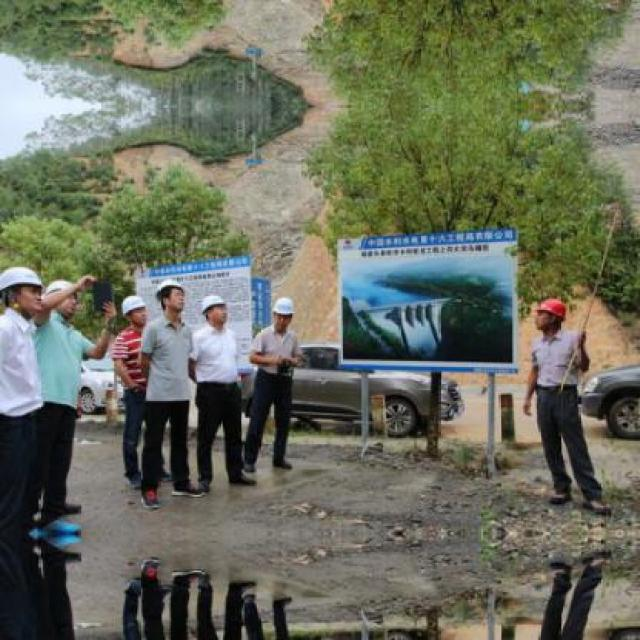helmet: (1, 261, 42, 314), (44, 275, 79, 319), (118, 290, 153, 330), (536, 296, 570, 336), (154, 276, 188, 316), (198, 291, 230, 327), (268, 292, 295, 329)
